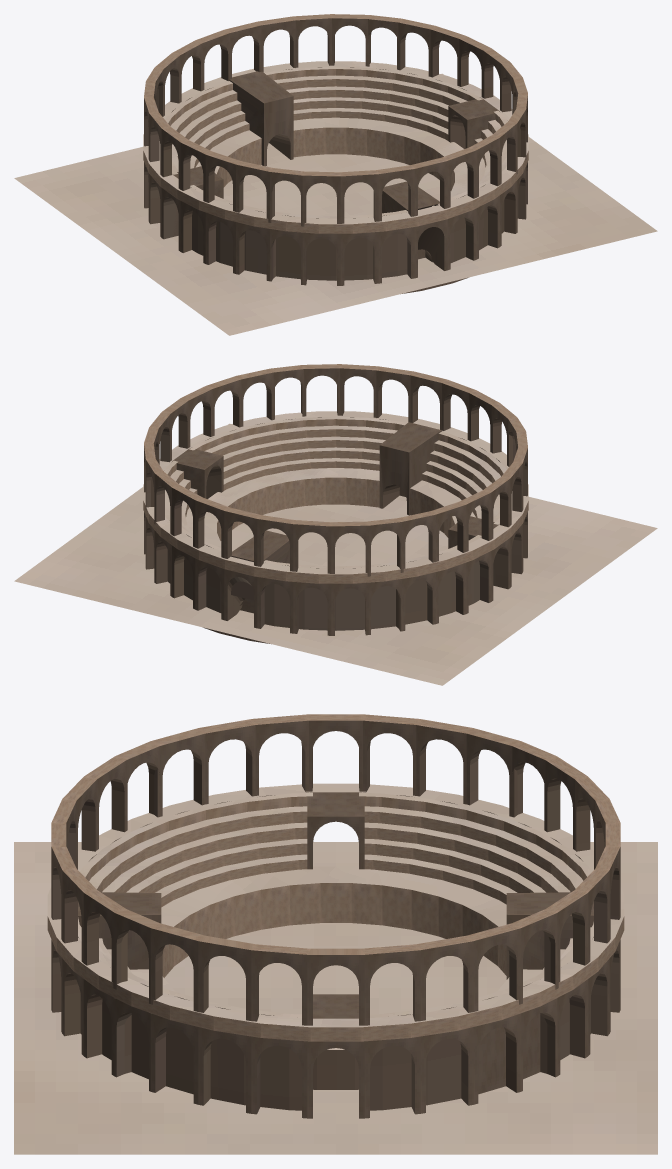
File: Colosseum3.obj
3 views of the same model, one above another, from view 1: azimuth 30°, elevation 25°; view 2: azimuth 150°, elevation 25°; view 3: azimuth 270°, elevation 25° (orthographic). The views are drawn at different scales.
Visible parts, largest first — view 1: Arena_draft.lwo; view 2: Arena_draft.lwo; view 3: Arena_draft.lwo.
Boxes of the visible parts, bbox=[...] form: Arena_draft.lwo: bbox=[14, 14, 657, 335]; Arena_draft.lwo: bbox=[14, 364, 657, 685]; Arena_draft.lwo: bbox=[14, 714, 657, 1154].
Bounding box in the file's own units: 39.48 × 10.95 × 34.38.
Materials: 1 (1 with a texture image).
